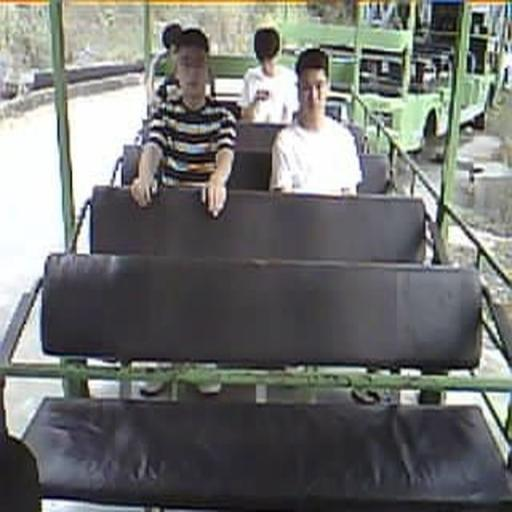persona: (130, 26, 238, 218), (269, 47, 363, 196), (238, 25, 300, 124), (146, 22, 182, 120)
